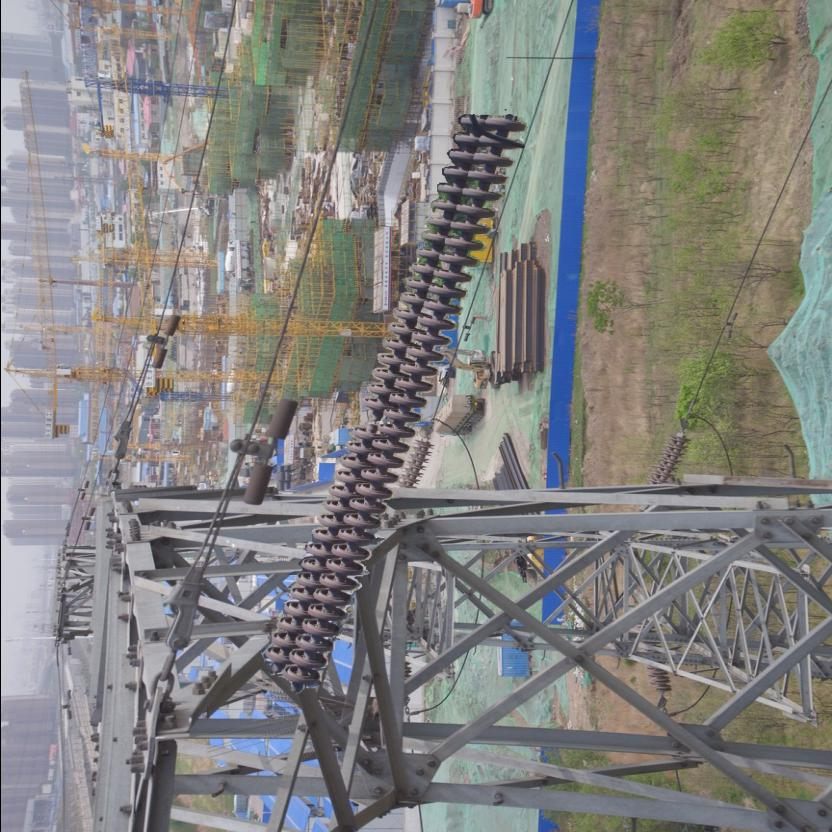defect: (345, 397, 387, 449)
